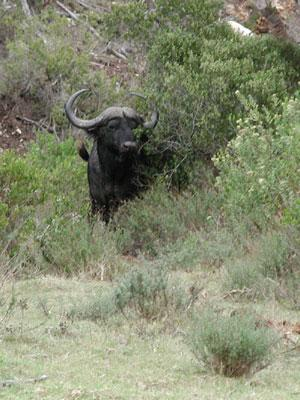Buffalo: (0, 0, 285, 400)
